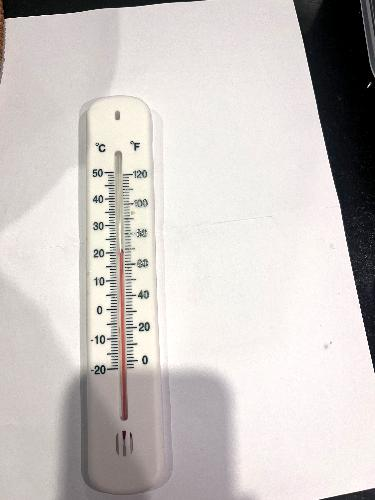thermo: (84, 93, 173, 489)
